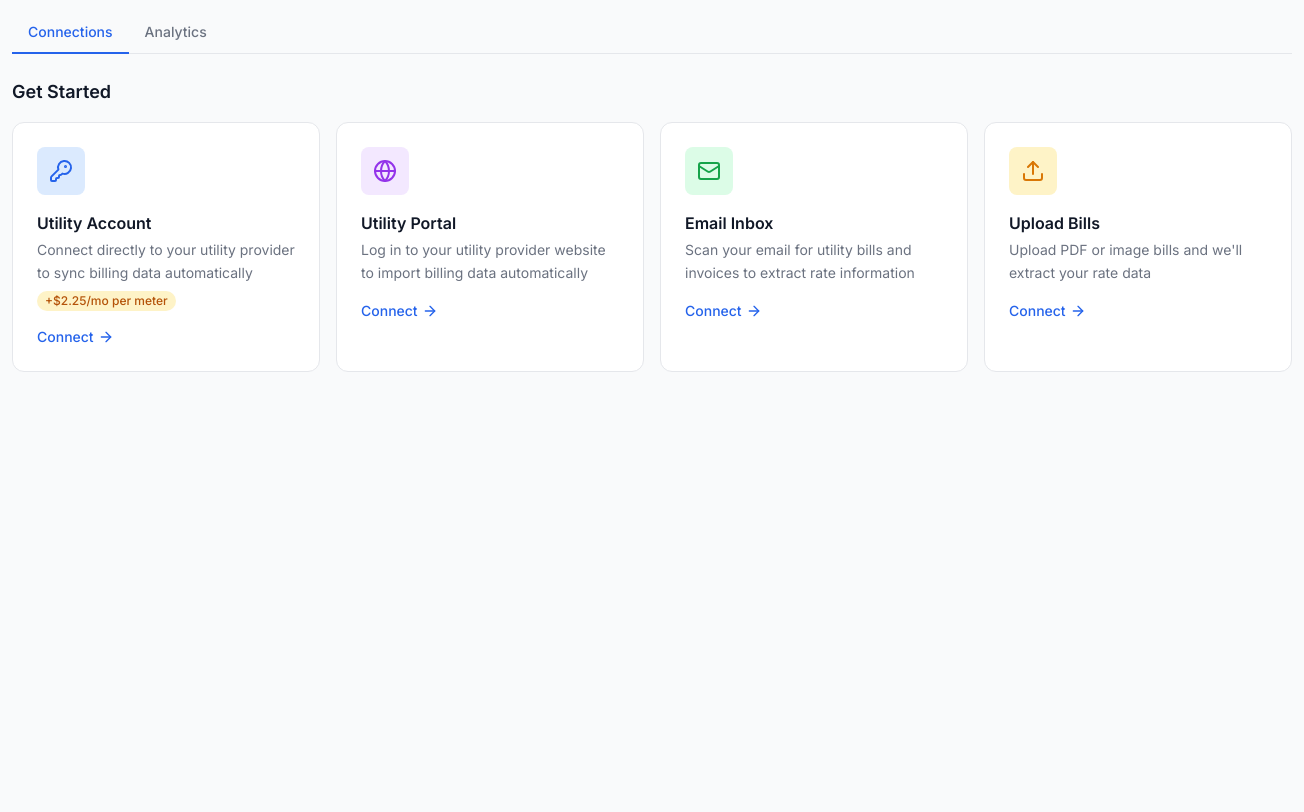
Test: ConnectionsOverview › shows DirectLoginForm when Utility Account option is clicked
The width and height of the screenshot is (1304, 812).
Expected: the heading "Get Started" is shown, top-left (12, 81), bottom-right (111, 102)
// Click the "Utility Account" method option
Click the heading "Utility Account" at (94, 223), box top-left (37, 211), bottom-right (151, 235)
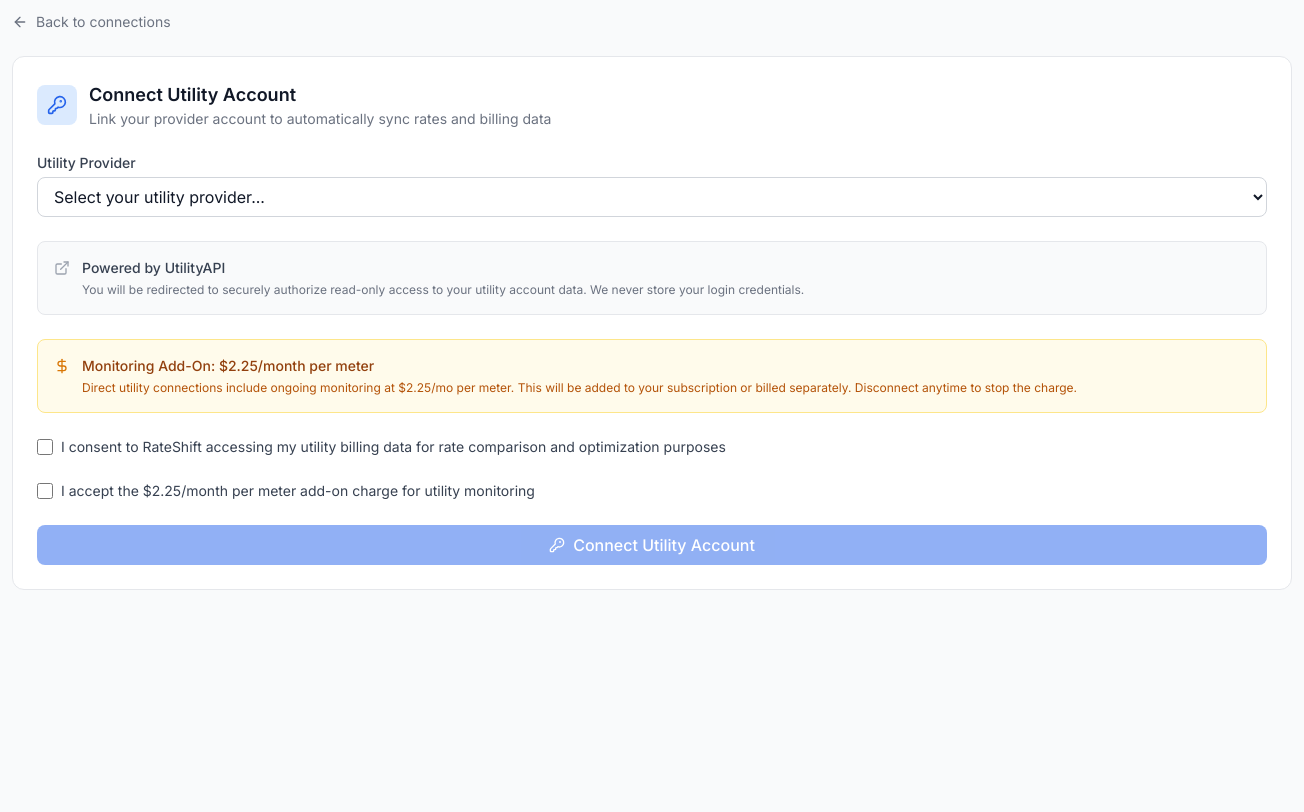
Expected: the button with aria-label "Back to connections overview" is shown, top-left (12, 12), bottom-right (170, 32)
